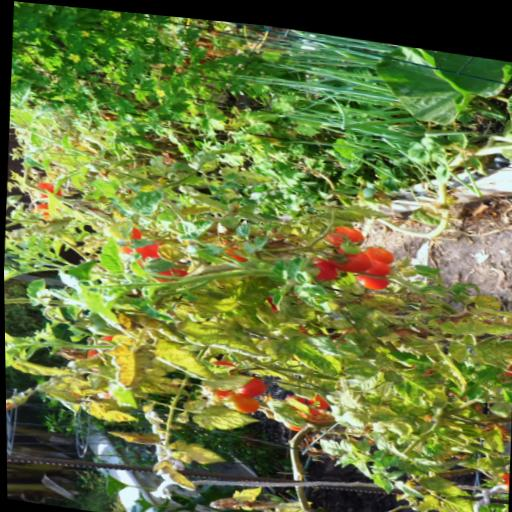Spider Mites: (172, 314, 271, 356), (144, 331, 222, 381), (176, 390, 263, 433), (98, 328, 157, 390), (273, 327, 344, 373), (389, 356, 449, 405), (420, 332, 469, 386), (436, 301, 512, 333), (458, 319, 512, 361), (222, 266, 275, 305), (146, 453, 198, 490), (165, 434, 225, 466), (339, 348, 379, 389), (216, 158, 273, 186), (81, 398, 140, 425), (8, 356, 75, 379), (197, 364, 254, 391), (250, 298, 307, 325), (99, 423, 160, 445), (261, 393, 304, 424), (356, 283, 406, 309), (188, 288, 238, 313), (438, 484, 473, 509), (345, 196, 391, 215), (277, 287, 306, 314), (479, 415, 505, 444), (153, 239, 185, 261), (411, 448, 448, 467), (365, 396, 398, 417), (470, 282, 502, 303), (337, 402, 368, 423), (337, 382, 367, 403), (474, 444, 505, 464), (343, 294, 374, 313), (412, 484, 438, 506), (134, 376, 166, 393), (446, 334, 469, 356), (384, 412, 413, 428), (285, 379, 314, 394), (336, 335, 363, 350), (325, 310, 351, 325)
